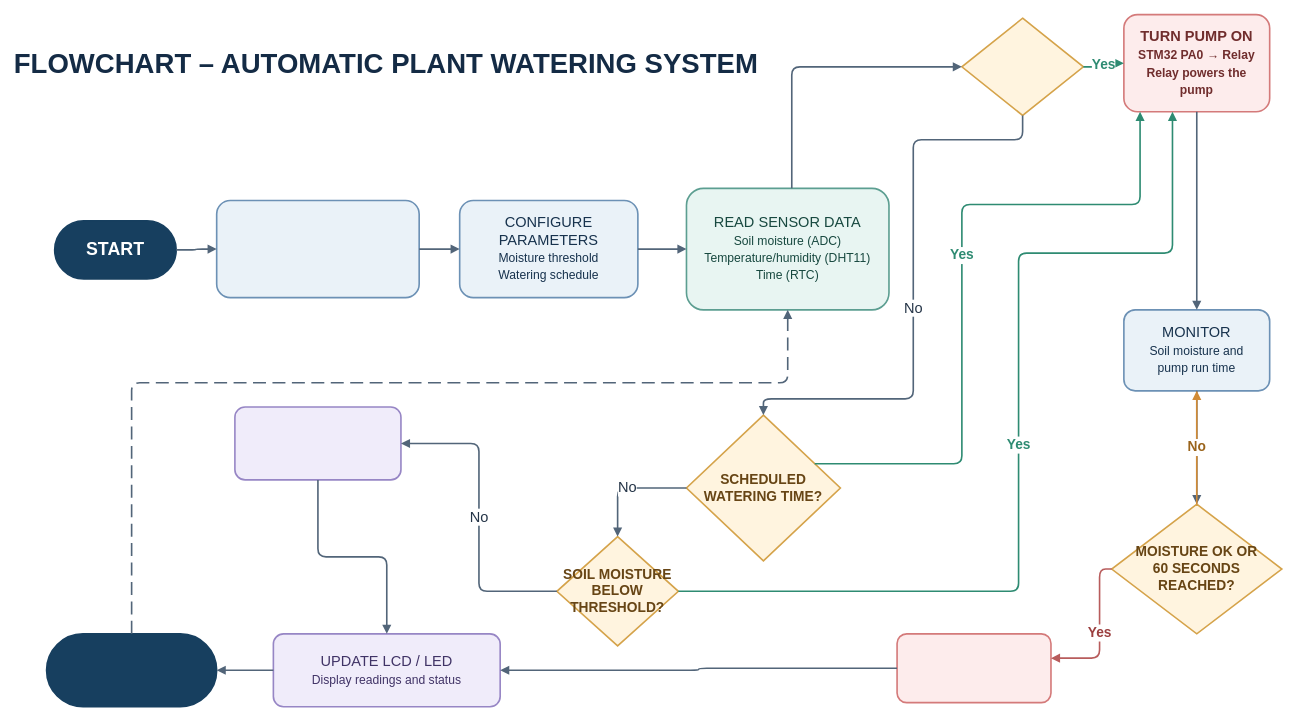
This 1296x722 diagram has some shape labels left out. The centre of each missing label's shape, as x and y in pixels:
MANUAL WATERING?: the point at 1022,66
NO WATERING Keep the pump off: the point at 317,443
REPEAT CONTROL LOOP: the point at 131,670
SYSTEM INITIALIZATION GPIO • ADC • I2C • Timer LCD • RTC • DHT11: the point at 317,248
TURN PUMP OFF Deactivate relay signal: the point at 973,668
